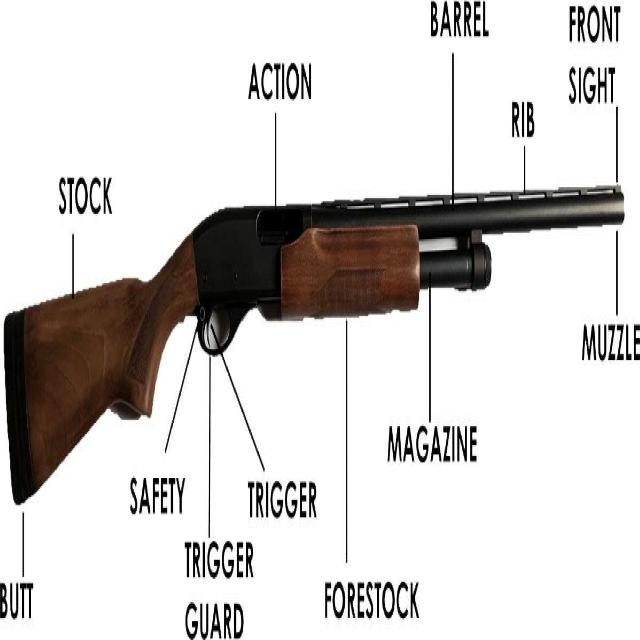weapon: (1, 98, 632, 547)
